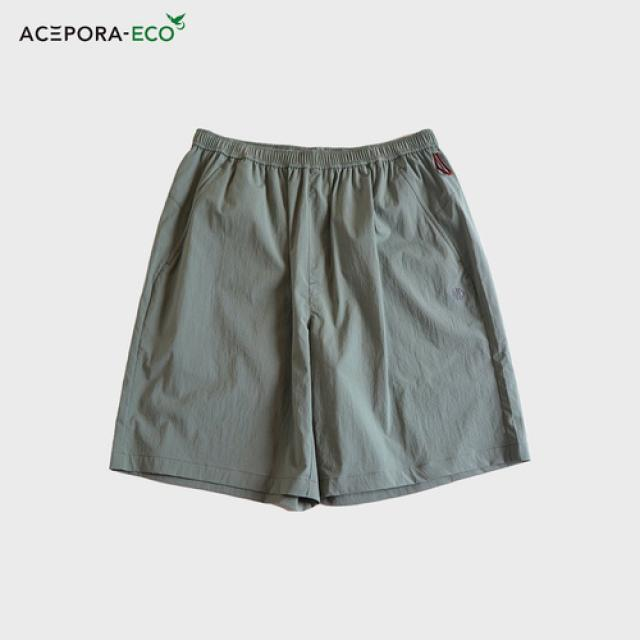Blouse_deep: (109, 140, 534, 490)
